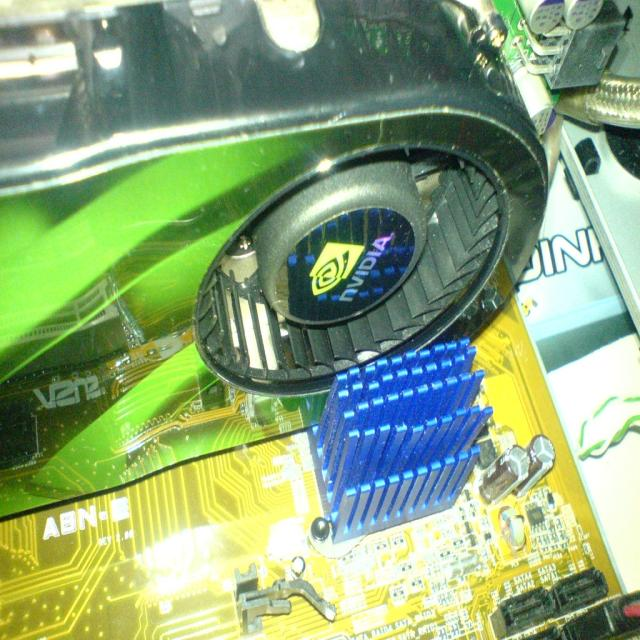nvidia: (310, 243, 365, 298)
